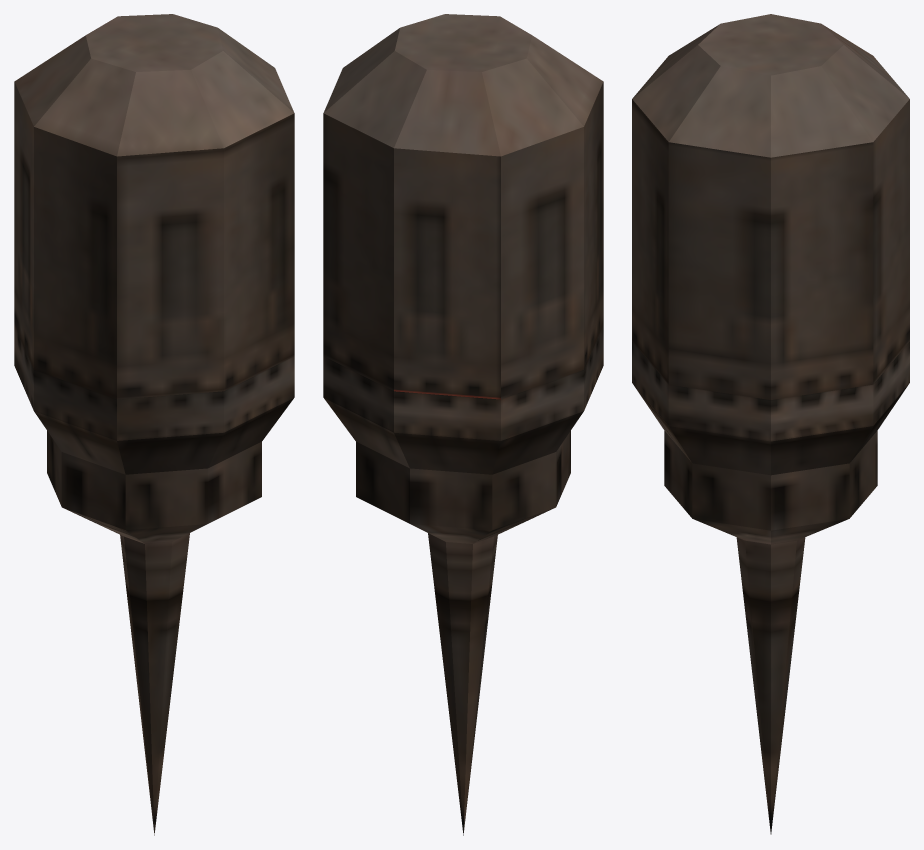
File: Thumper_OutLine.fbx
3 renders of one model, left to right at view 1: azimuth 30°, elevation 25°; view 2: azimuth 150°, elevation 25°; view 3: azimuth 270°, elevation 25°, orthographic.
Visible parts, largest first — view 1: Thumper_Down; view 2: Thumper_Down; view 3: Thumper_Down.
Boxes of the visible parts, x1,y1,x2,y2 form: Thumper_Down: [14, 14, 294, 835]; Thumper_Down: [323, 14, 603, 835]; Thumper_Down: [632, 14, 909, 834].
Bounding box in the file's own units: 6.53 × 20.51 × 6.53.
